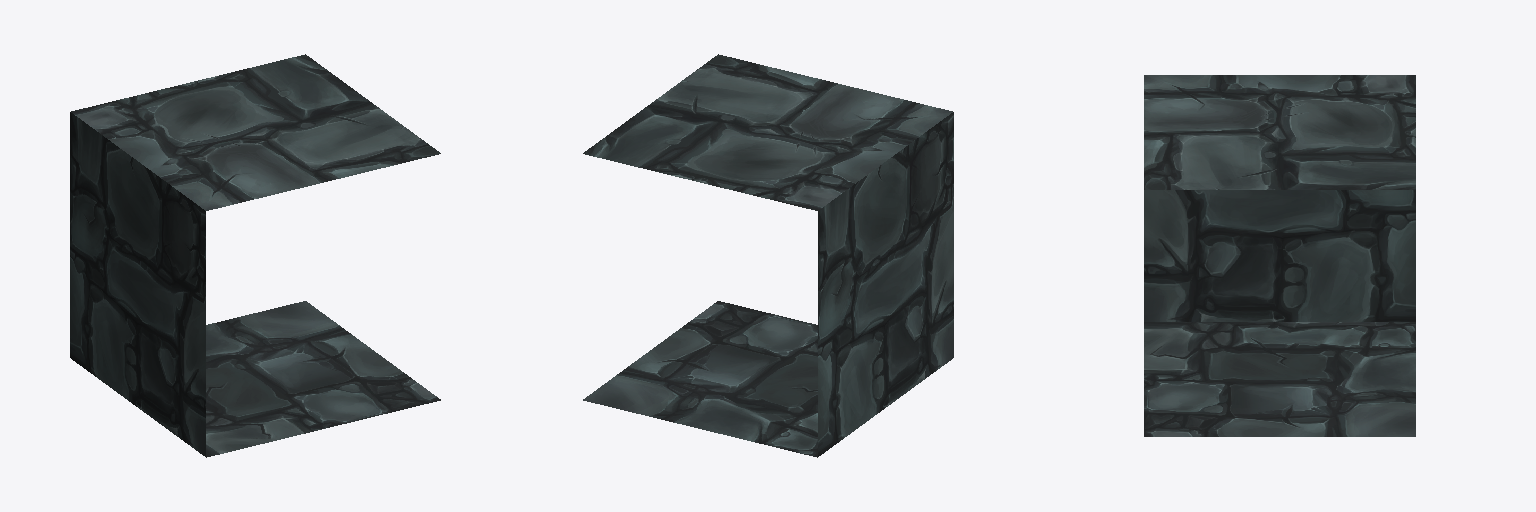
3 views of the same model, side by side, from view 1: azimuth 30°, elevation 25°; view 2: azimuth 150°, elevation 25°; view 3: azimuth 270°, elevation 25° (orthographic).
Visible parts, largest first — view 1: Cube; view 2: Cube; view 3: Cube.
Part boxes in pixels (x1,y1,x2,y2): Cube: (70, 54, 440, 457); Cube: (583, 54, 953, 457); Cube: (1144, 75, 1415, 436).
Bounding box in the file's own units: 20 × 20 × 20.
Materials: 1 (1 with a texture image).